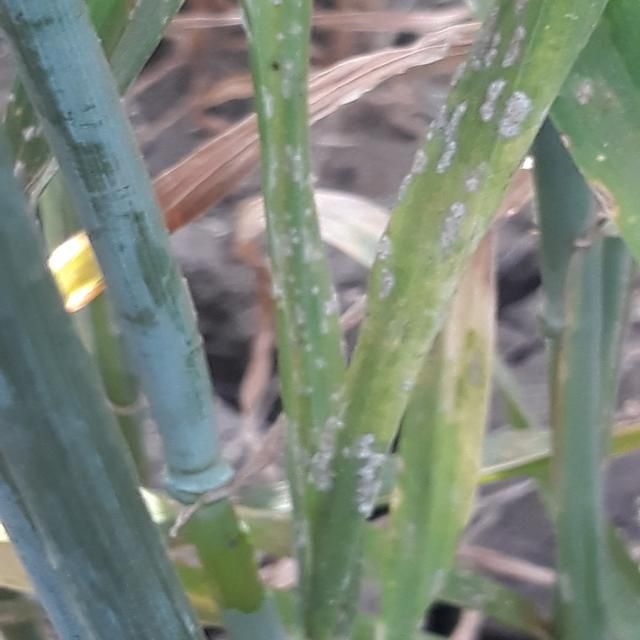powder_mildew: (312, 0, 602, 640), (236, 0, 330, 560), (556, 53, 640, 240)
